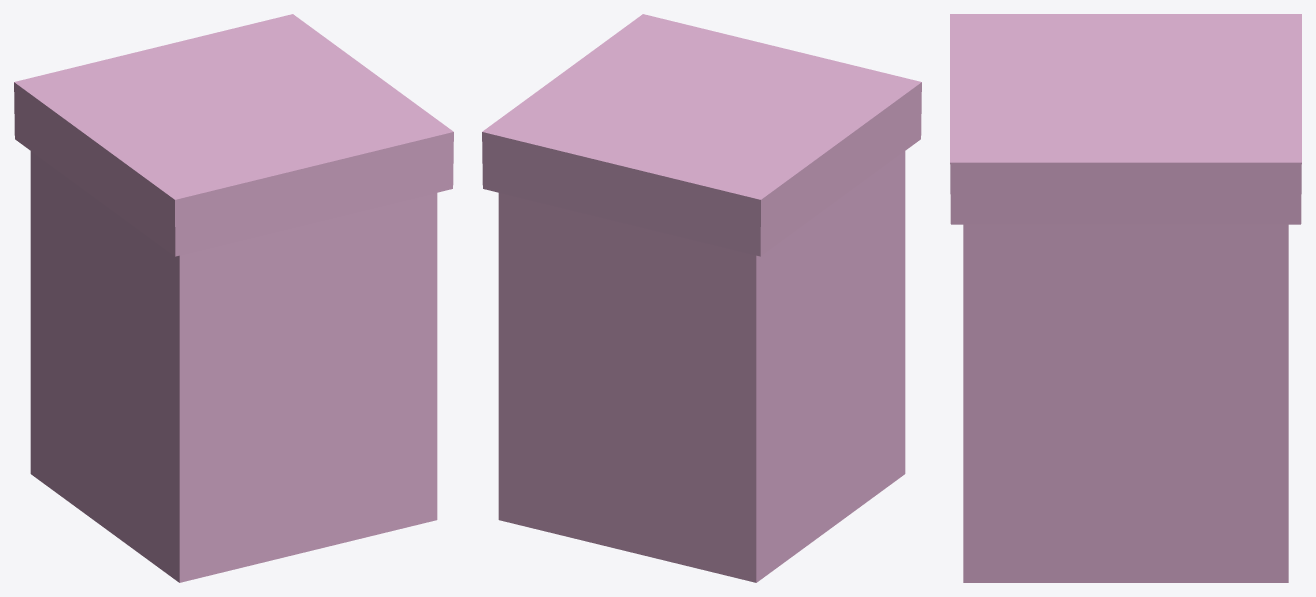
File: BoxSmall.fbx
The picture shows the model from 3 angles, left to right: view 1: azimuth 30°, elevation 25°; view 2: azimuth 150°, elevation 25°; view 3: azimuth 270°, elevation 25°; orthographic projection. The views are drawn at different scales.
Parts seen in each view (by area): view 1: BoxSmall; view 2: BoxSmall; view 3: BoxSmall.
Boxes of the visible parts, x1,y1,x2,y2 form: BoxSmall: [14, 14, 453, 582]; BoxSmall: [482, 14, 921, 582]; BoxSmall: [950, 14, 1301, 582].
Size of the model in its own units: 25.95 by 34.68 by 25.95.
